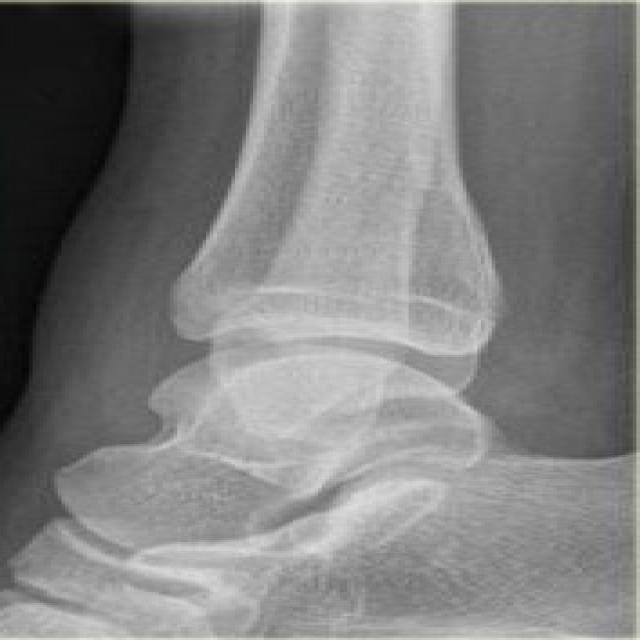Avulsion-fracture-: (52, 416, 476, 588)
